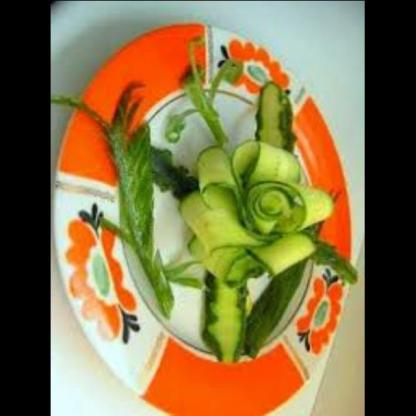cucumber: (195, 127, 315, 285), (204, 268, 256, 364), (257, 79, 301, 164)
